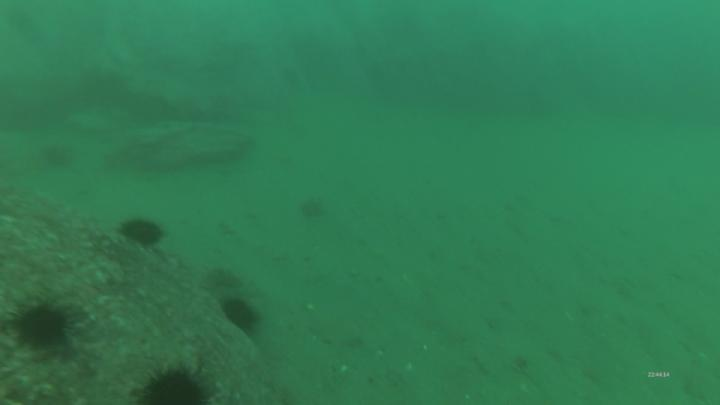echinus: (9, 299, 72, 357), (136, 363, 217, 405), (118, 214, 166, 253), (218, 293, 260, 334)
